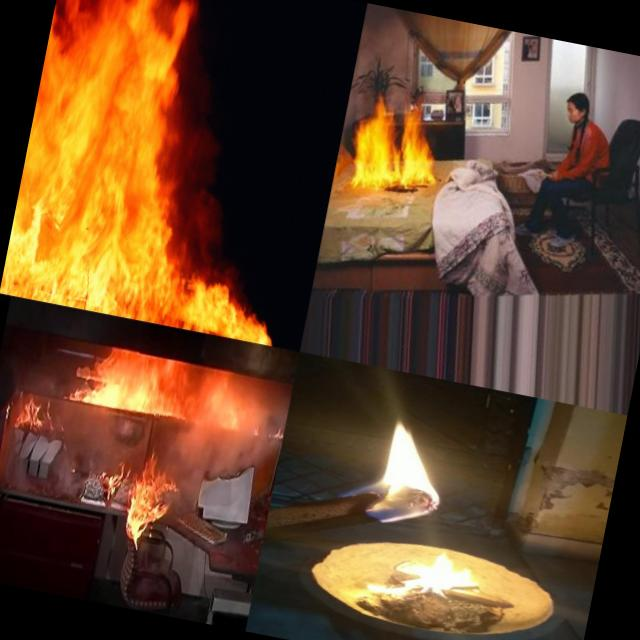fire: (0, 0, 340, 346), (65, 341, 284, 440), (322, 402, 467, 533), (344, 93, 448, 199), (359, 534, 490, 616), (100, 442, 192, 548), (6, 388, 70, 440)
